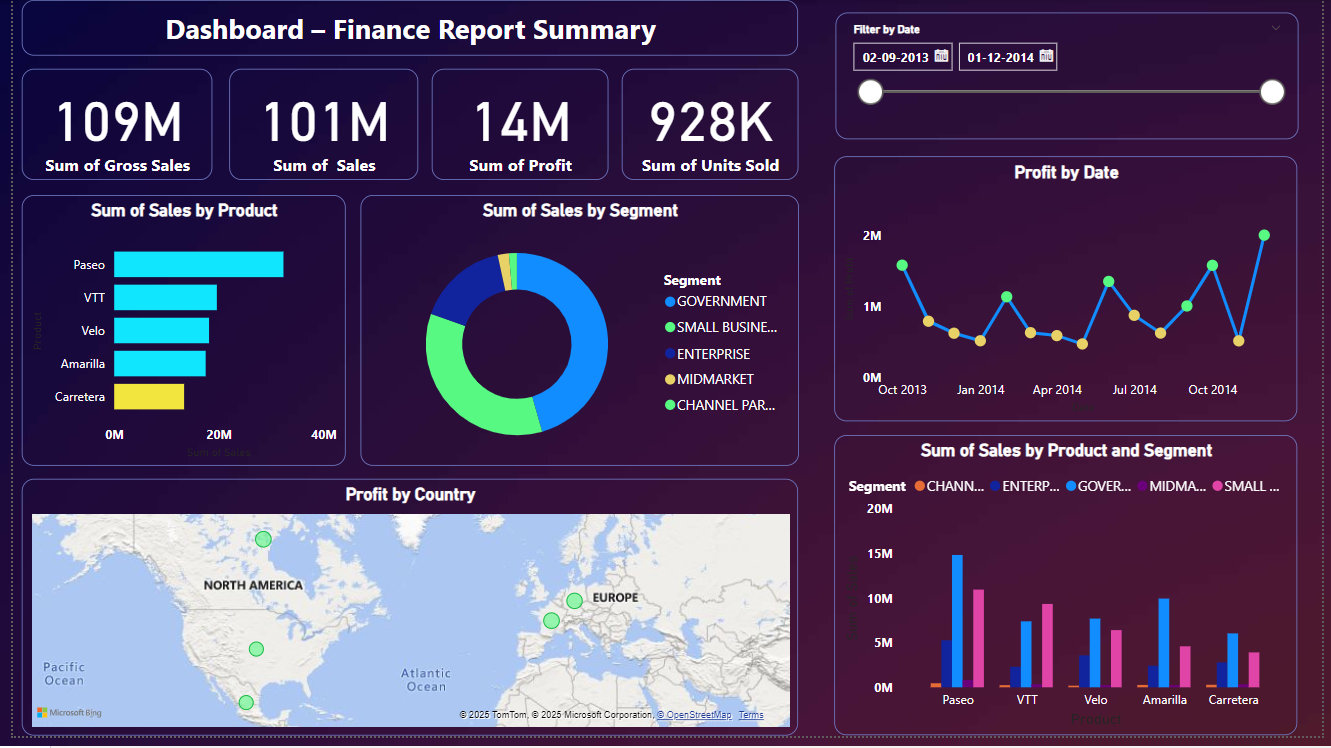

The page's visual inventory and layout, read from the dashboard file:
{"tool":"powerbi","page":{"name":"Page 1","canvas":[1280,720],"ordinal":0},"visuals":[{"type":"textbox","box":[9.1,0,758.9,54.5],"z":0},{"type":"lineChart","title":"Profit by Date","fields":{"Category":["Calendar.Date"],"Y":["Sum(financials.Profit)"]},"box":[802.8,153,452.9,259],"z":1000},{"type":"map","title":"Profit by Country","fields":{"Category":["financials.Country"],"Size":["Sum(financials.Profit)"]},"box":[9.1,468.1,758.9,251.5],"z":2000},{"type":"clusteredColumnChart","fields":{"Y":["Sum(financials. Sales)"],"Category":["financials.Product"],"Series":["financials.Segment"]},"box":[802.8,425.7,452.9,293.9],"z":3000},{"type":"slicer","fields":{"Values":["financials.Date"]},"box":[804.4,12.1,452.9,124.2],"z":4000},{"type":"donutChart","fields":{"Category":["financials.Segment"],"Y":["Sum(financials. Sales)"]},"box":[339.3,190.9,428.7,265.1],"z":5000},{"type":"card","fields":{"Values":["Sum(financials.Units Sold)"]},"box":[595.3,66.7,172.7,109.1],"z":6000},{"type":"card","fields":{"Values":["Sum(financials. Sales)"]},"box":[212.1,66.7,184.8,109.1],"z":7000},{"type":"card","fields":{"Values":["Sum(financials.Profit)"]},"box":[409,66.7,172.7,109.1],"z":8000},{"type":"card","fields":{"Values":["Sum(financials.Gross Sales)"]},"box":[9.1,66.7,186.3,109.1],"z":9000},{"type":"clusteredBarChart","fields":{"Category":["financials.Product"],"Y":["Sum(financials. Sales)"]},"box":[9.1,190.9,316.6,265.1],"z":10000}]}

Visuals, with their boxes in screenshot pixels (x1, y1, x2, y2), scaled from the page's 1280x720 canvas onto the 1331x748 screenshot:
textbox: box(9, 0, 799, 57)
"Profit by Date" lineChart: box(835, 159, 1306, 428)
"Profit by Country" map: box(9, 486, 799, 747)
clusteredColumnChart - Sum(financials. Sales) x financials.Product: box(835, 442, 1306, 747)
slicer - financials.Date: box(836, 13, 1307, 142)
donutChart - financials.Segment x Sum(financials. Sales): box(353, 198, 799, 474)
card - Sum(financials.Units Sold): box(619, 69, 799, 183)
card - Sum(financials. Sales): box(221, 69, 413, 183)
card - Sum(financials.Profit): box(425, 69, 605, 183)
card - Sum(financials.Gross Sales): box(9, 69, 203, 183)
clusteredBarChart - financials.Product x Sum(financials. Sales): box(9, 198, 339, 474)
